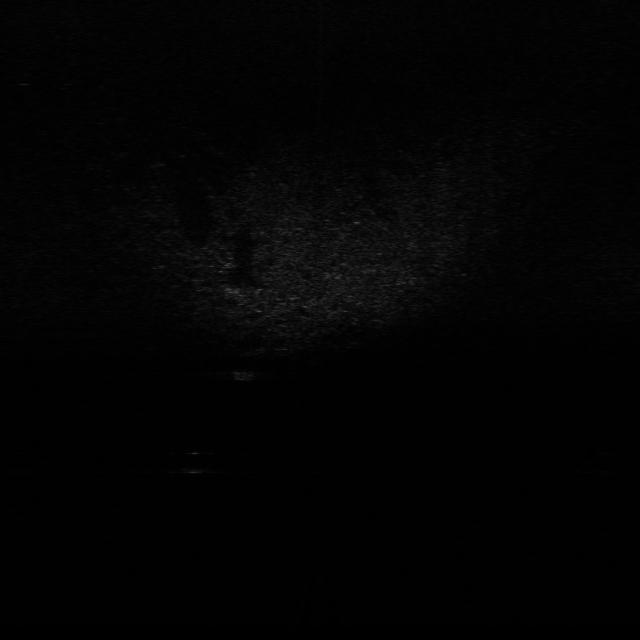ball: (178, 444, 221, 474)
cube: (229, 364, 257, 386)
